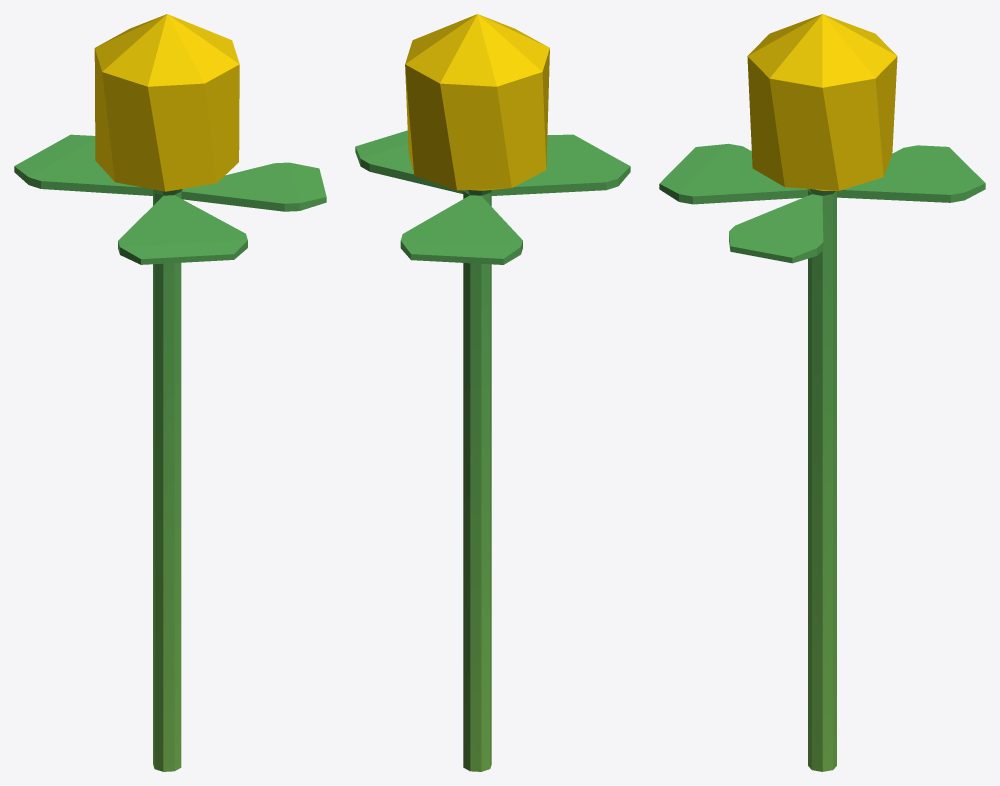
The model's file is Flowerrs_Golden.fbx.
3 renders of one model, left to right at view 1: azimuth 30°, elevation 25°; view 2: azimuth 150°, elevation 25°; view 3: azimuth 270°, elevation 25°, orthographic.
Parts seen in each view (by area): view 1: Cylinder.045; view 2: Cylinder.045; view 3: Cylinder.045.
Boxes of the visible parts, bbox=[...] form: Cylinder.045: bbox=[14, 14, 326, 771]; Cylinder.045: bbox=[355, 14, 630, 771]; Cylinder.045: bbox=[659, 14, 985, 771].
Size of the model in its own units: 10.37 by 32.21 by 12.67.
